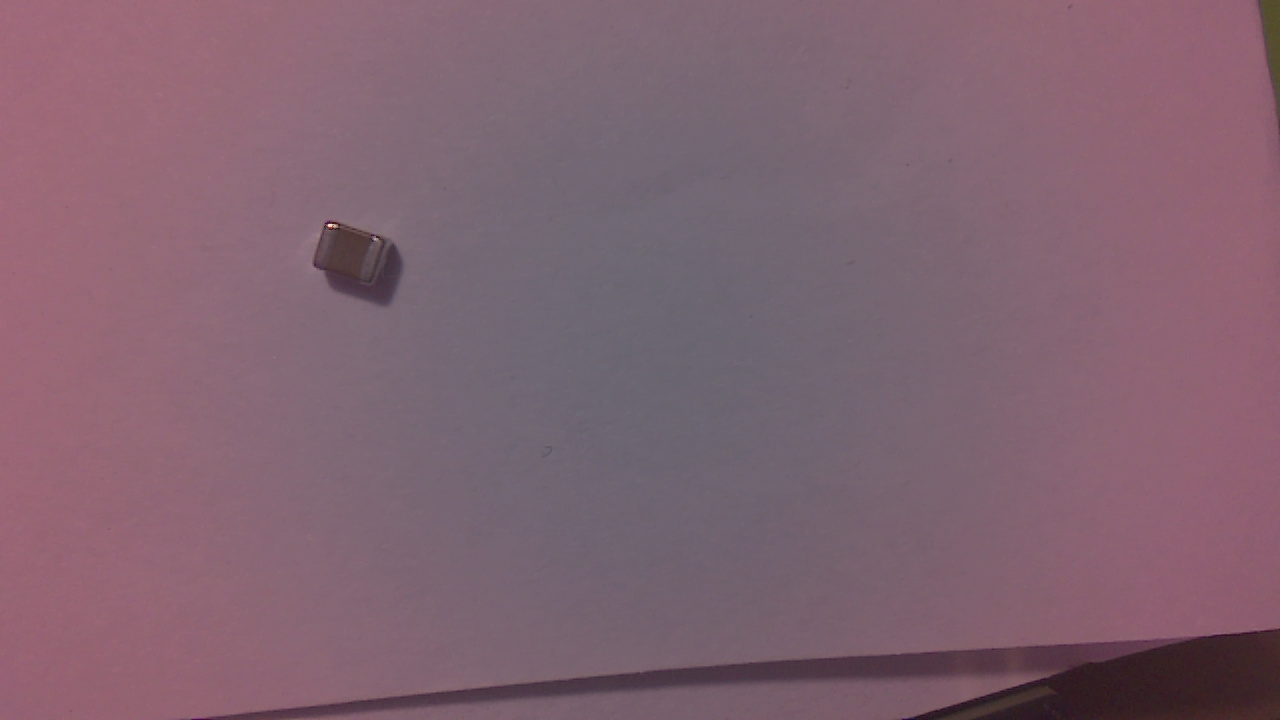Condensator: (317, 225, 398, 291)
